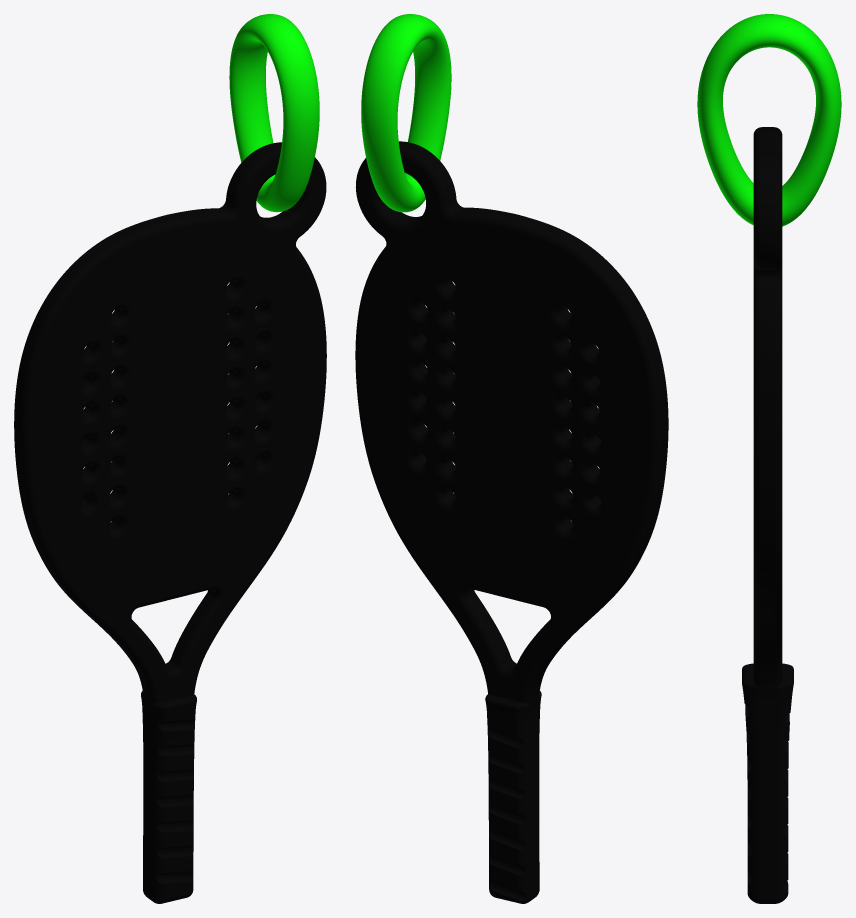
3 views of the same model, side by side, from view 1: azimuth 30°, elevation 25°; view 2: azimuth 150°, elevation 25°; view 3: azimuth 270°, elevation 25° (orthographic). The views are drawn at different scales.
Parts seen in each view (by area): view 1: PG Raqueta.3dm, Bail; view 2: PG Raqueta.3dm, Bail; view 3: PG Raqueta.3dm, Bail.
Boxes of the visible parts, x1=… form: PG Raqueta.3dm: x1=14, y1=142, x2=326, y2=903; Bail: x1=229, y1=14, x2=319, y2=212; PG Raqueta.3dm: x1=355, y1=141, x2=668, y2=903; Bail: x1=361, y1=14, x2=451, y2=212; PG Raqueta.3dm: x1=742, y1=127, x2=793, y2=903; Bail: x1=697, y1=14, x2=841, y2=226.
Size of the model in its own units: 1.39 by 3.71 by 0.5177.
